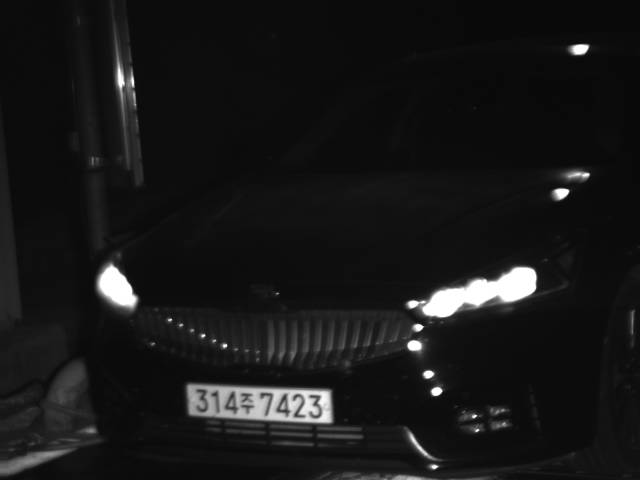car: (82, 17, 637, 475)
plate: (185, 381, 335, 425)
